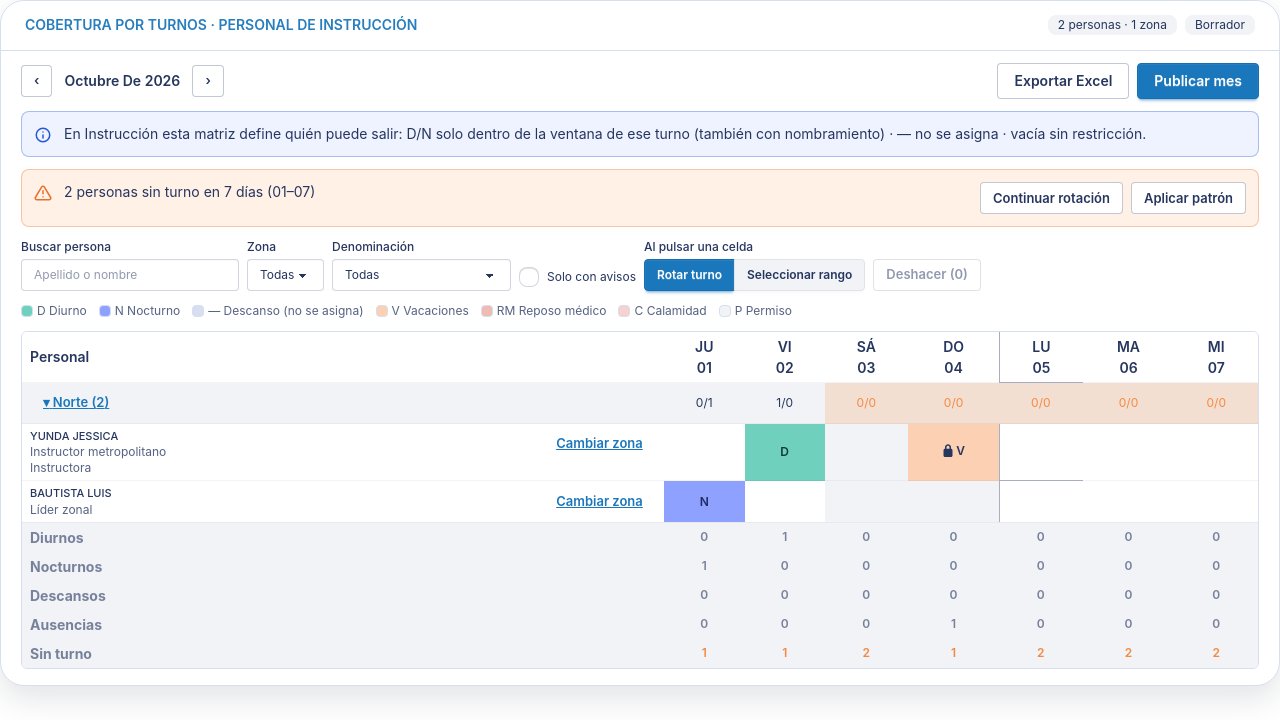
Test case: MatrizCobertura · Instrucción › los totales del pie cambian al editar
The image size is (1280, 720).
Expected: the table is shown, [21,331,1259,669]
Expected: the 1st cell "0" is shown, [664,522,745,552]
Click the cell named "YUNDA JESSICA · jueves 01 · sin turno" at (704, 453), box [664,424,745,481]
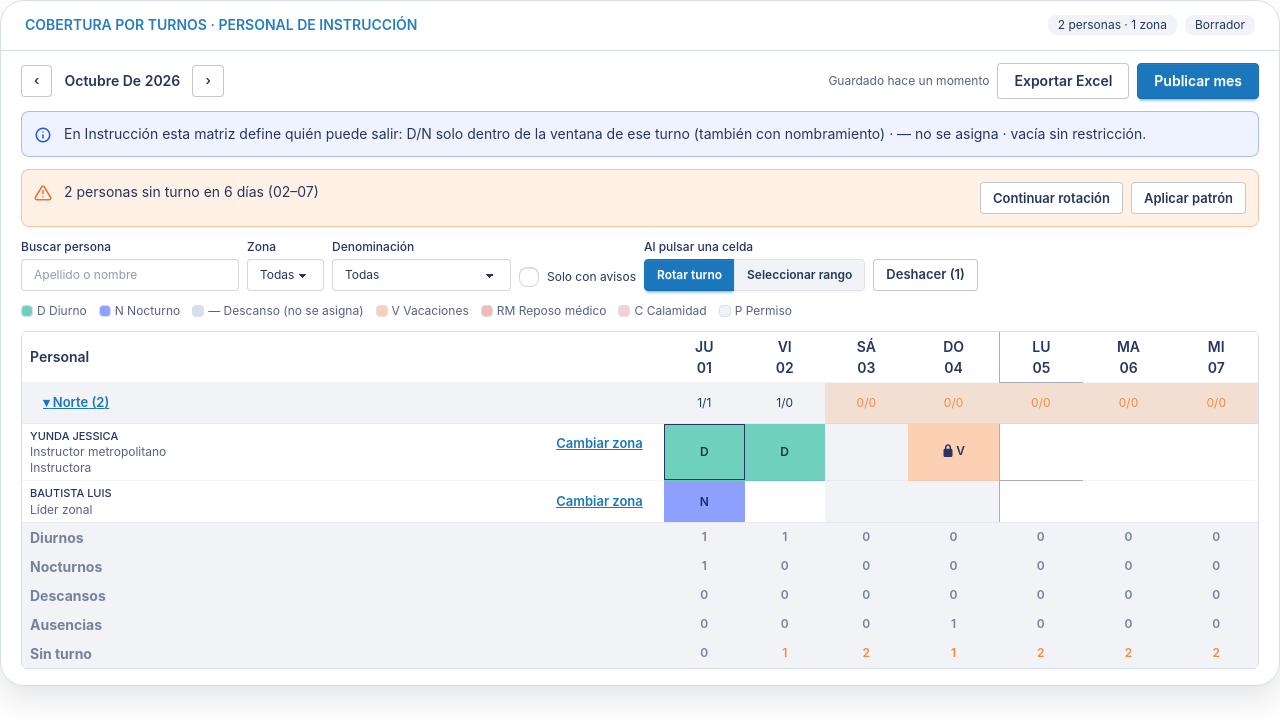
Result: the 1st cell "1" is shown at [664,522,745,552]
